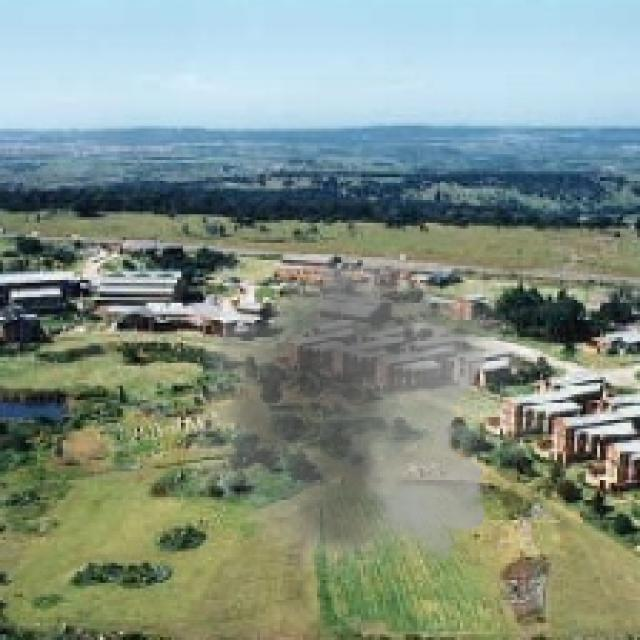smoke: (163, 237, 568, 583)
